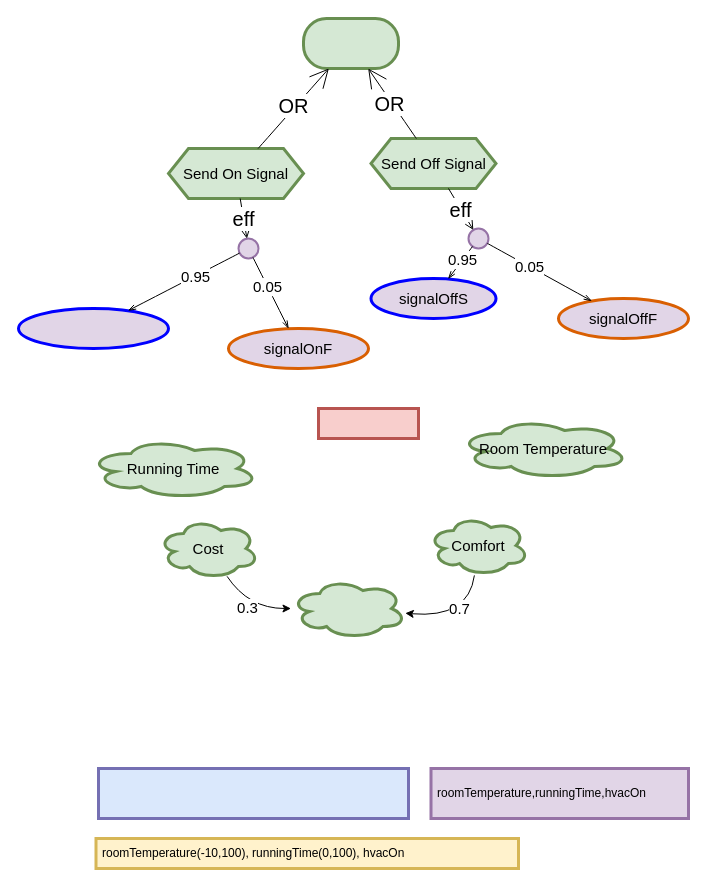
Some shapes in this 707 by 887 pixel diagram are drawn without their labels. Here are the shapes that lost their labels. From the top down, the centre of each, then its label:
the point at 351,43: Control Heater
the point at 93,328: signalOnS
the point at 368,423: hvacOn
the point at 348,608: Overall Quality
the point at 253,793: runningTime:=0, roomTemperature:=30
